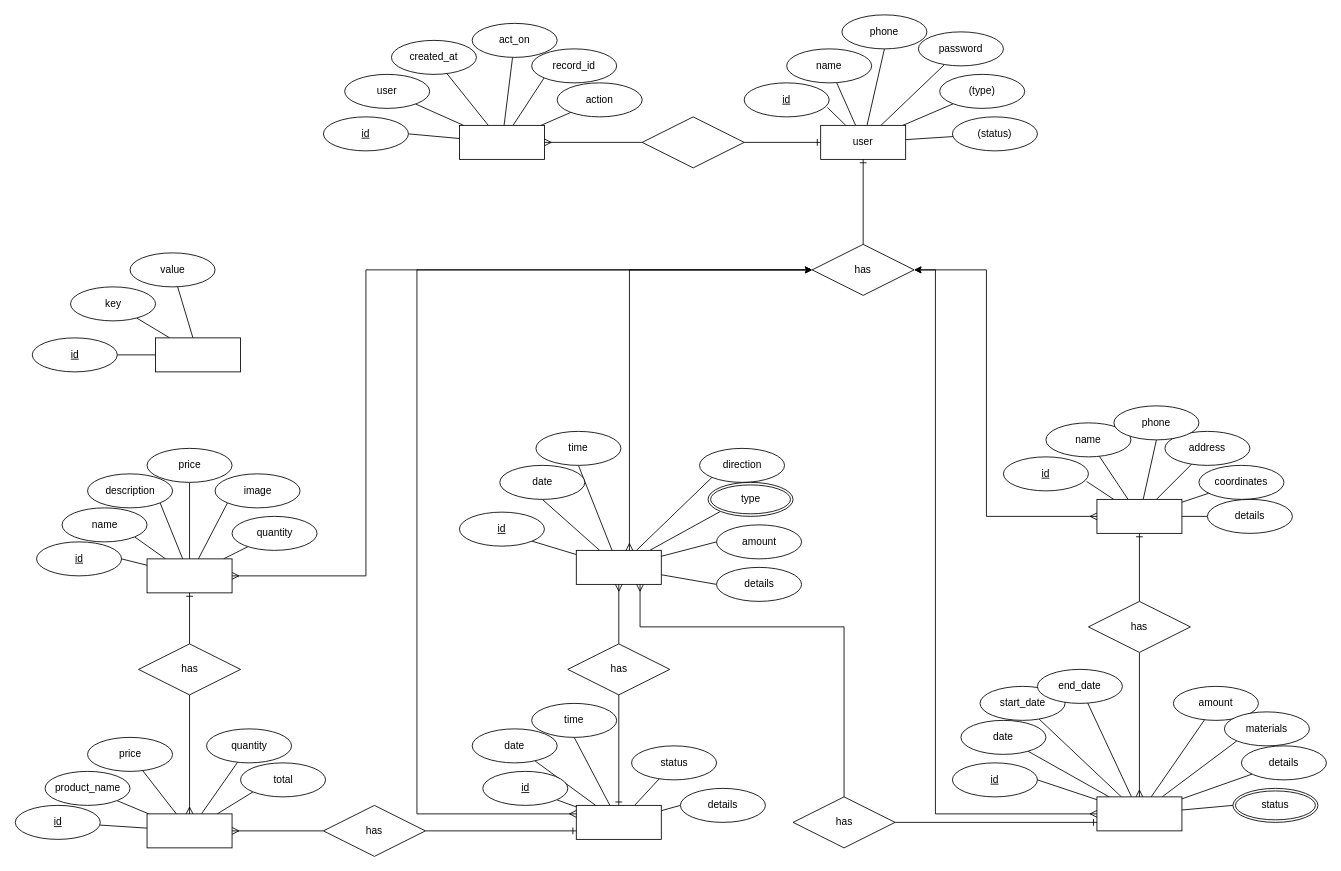
The diagram is 1341 pixels wide and 871 high, and some of its shapes have lost their labels. The shapes that lost their labels are listed below. From the top down, each one's centre as x and y in pixels, then its label:
the point at 501,142: monitoring
the point at 692,142: under
the point at 198,354: setting
the point at 1139,516: customer
the point at 189,575: product
the point at 618,567: transaction
the point at 189,830: bill_details
the point at 618,822: bill
the point at 1139,813: project
